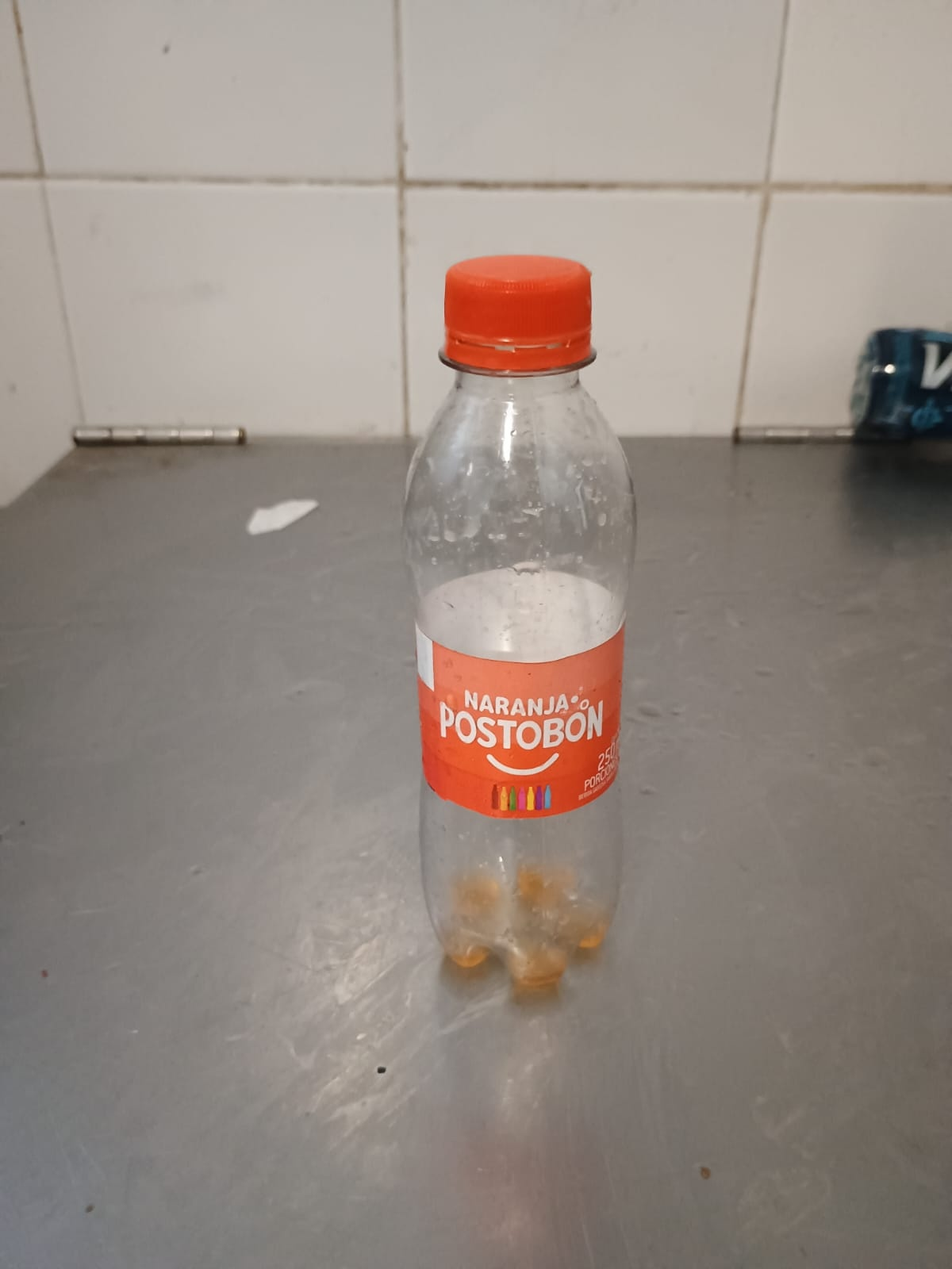Plastico: (402, 258, 632, 993)
